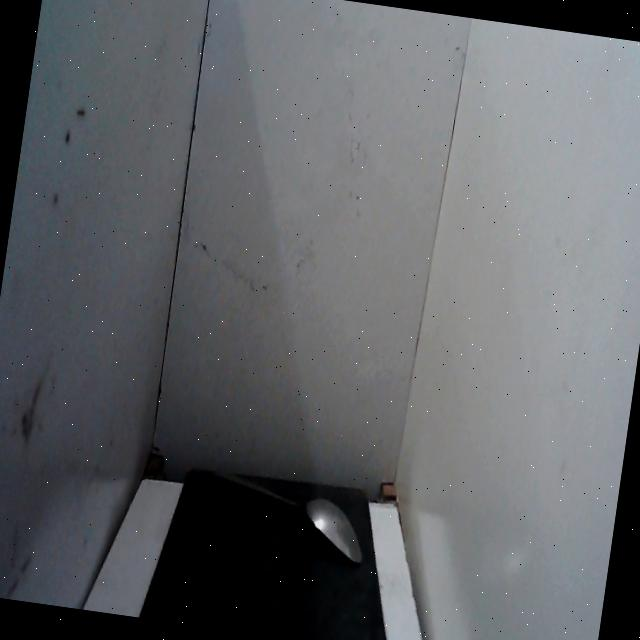metal: (197, 458, 378, 574)
